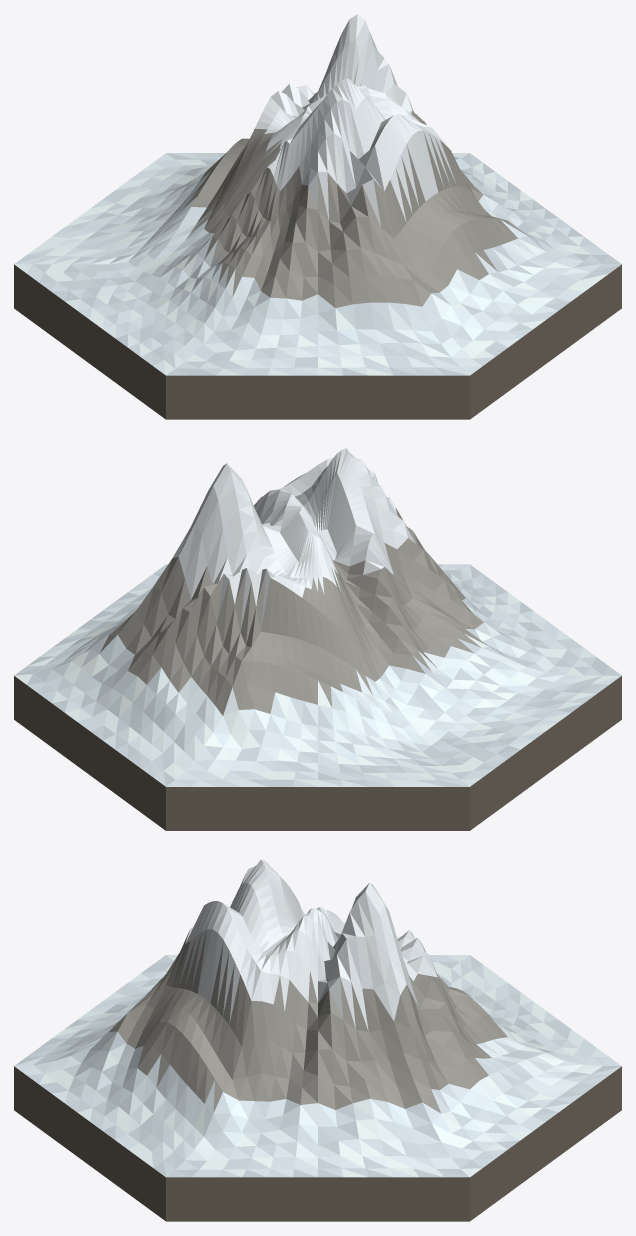
Rendered from TERRAIN_SNOW_MOUNTAIN_v00.fbx.
3 renders of one model, top to bottom at view 1: azimuth 30°, elevation 25°; view 2: azimuth 150°, elevation 25°; view 3: azimuth 270°, elevation 25°, orthographic.
Visible parts, largest first — view 1: TERRAIN_SNOW_MOUNTAIN_v00; view 2: TERRAIN_SNOW_MOUNTAIN_v00; view 3: TERRAIN_SNOW_MOUNTAIN_v00.
Part boxes in pixels (bbox=[...]): TERRAIN_SNOW_MOUNTAIN_v00: bbox=[14, 14, 621, 419]; TERRAIN_SNOW_MOUNTAIN_v00: bbox=[14, 448, 621, 830]; TERRAIN_SNOW_MOUNTAIN_v00: bbox=[14, 859, 621, 1221].
Size of the model in its own units: 173 by 94.14 by 200.
